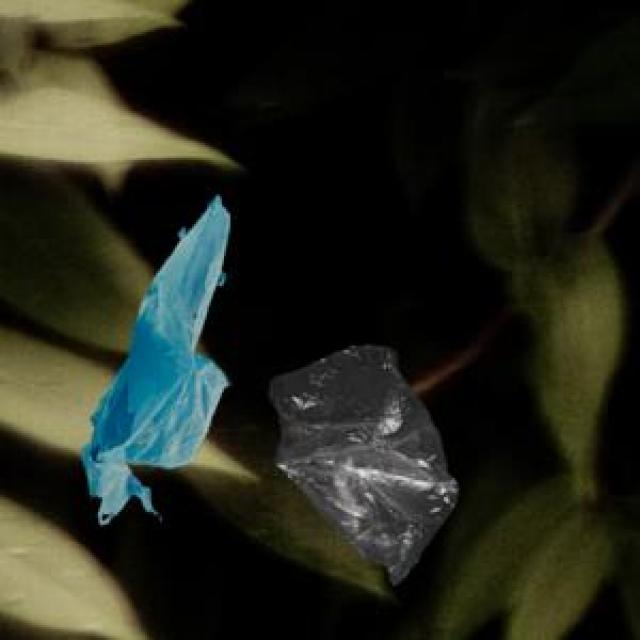plastic: (64, 149, 510, 592)
